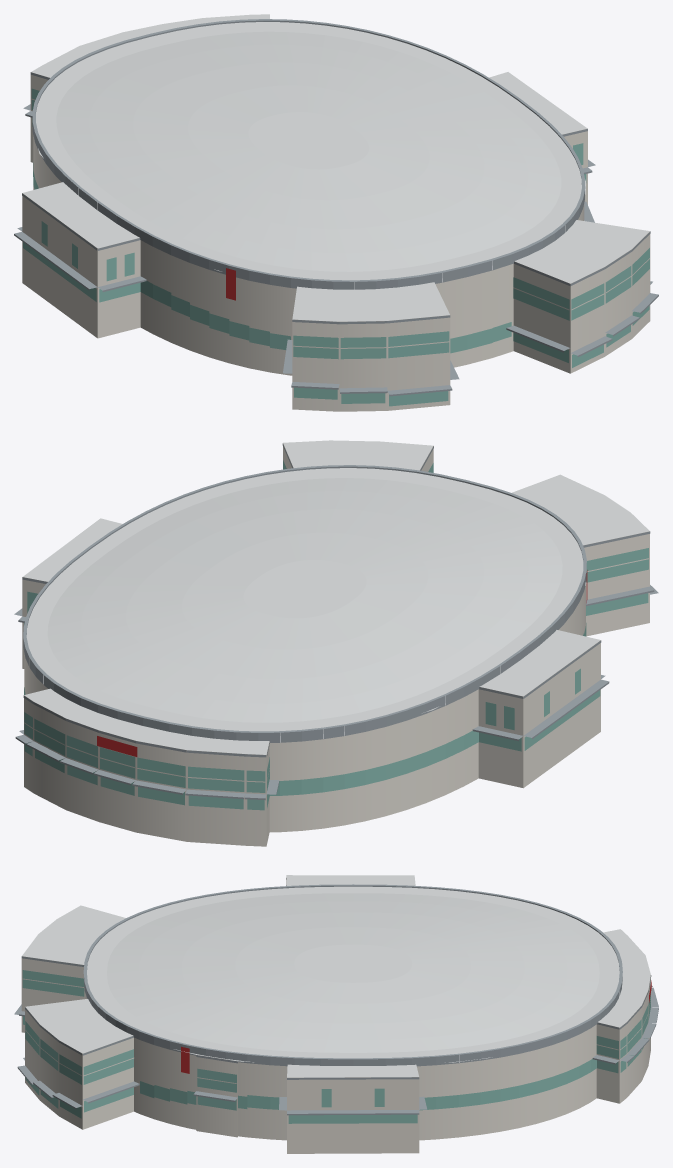
Rendered from ral-lenovo-center.glb.
3 renders of one model, top to bottom at view 1: azimuth 30°, elevation 25°; view 2: azimuth 150°, elevation 25°; view 3: azimuth 270°, elevation 25°, orthographic. The views are drawn at different scales.
Visible parts, largest first — view 1: Lenovo Center; view 2: Lenovo Center; view 3: Lenovo Center.
Part boxes in pixels (x1,y1,x2,y2): Lenovo Center: (14, 14, 658, 411); Lenovo Center: (14, 440, 658, 846); Lenovo Center: (14, 875, 658, 1153).
Size of the model in its own units: 159 by 32.3 by 207.
